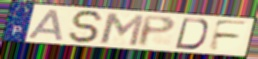A: (26, 8, 66, 42)
D: (173, 17, 210, 51)
F: (206, 18, 251, 52)
M: (99, 12, 147, 48)
P: (136, 15, 177, 48)
S: (68, 9, 107, 45)
